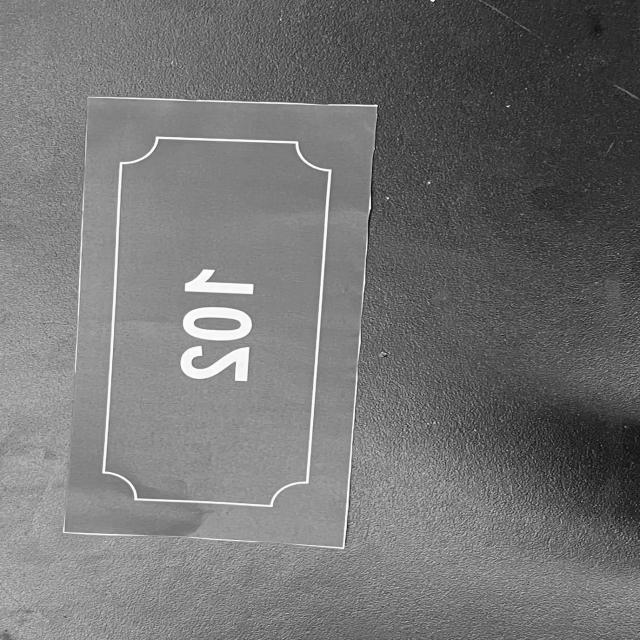Card: (39, 84, 398, 554)
